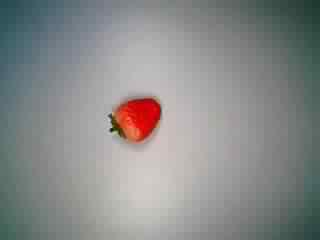strawberry: (100, 86, 168, 150)
